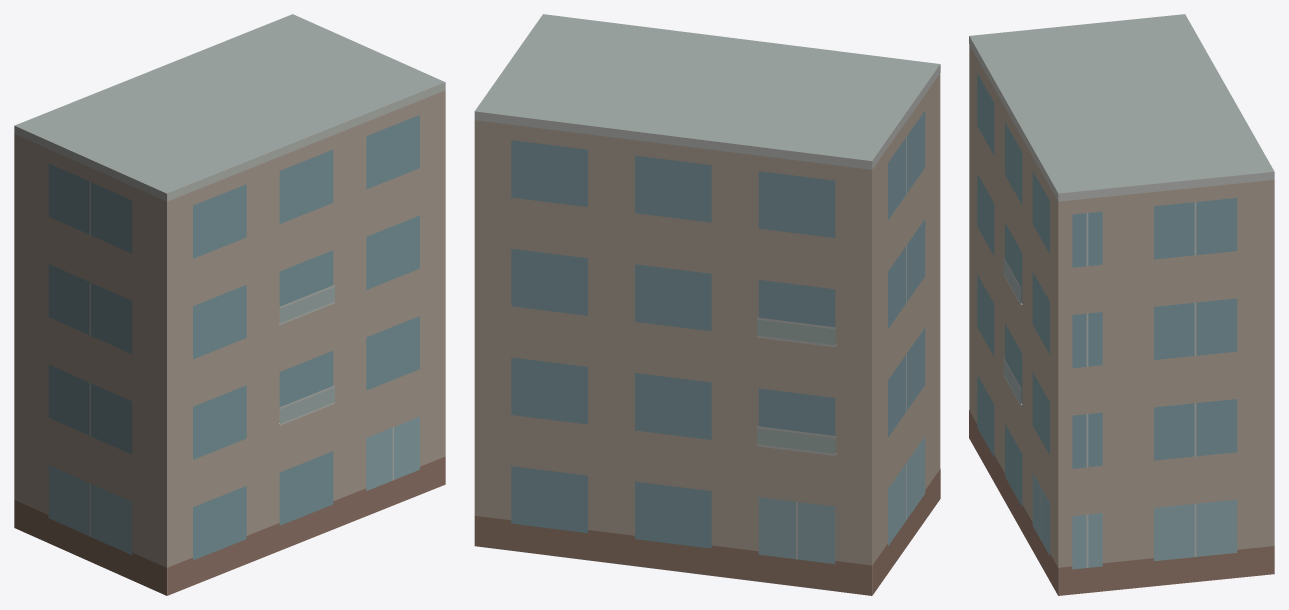
The model's file is residential-c3359495-9fe0-4a92-b639-81b0d5ee1164.glb.
The picture shows the model from 3 angles, left to right: view 1: azimuth 30°, elevation 25°; view 2: azimuth 150°, elevation 25°; view 3: azimuth 270°, elevation 25°; orthographic projection. The views are drawn at different scales.
Parts seen in each view (by area): view 1: residential-c3359495-9fe0-4a92-b639-81b0d5ee1164.tmp; view 2: residential-c3359495-9fe0-4a92-b639-81b0d5ee1164.tmp; view 3: residential-c3359495-9fe0-4a92-b639-81b0d5ee1164.tmp.
Part boxes in pixels (x1=…): residential-c3359495-9fe0-4a92-b639-81b0d5ee1164.tmp: x1=14, y1=14, x2=445, y2=595; residential-c3359495-9fe0-4a92-b639-81b0d5ee1164.tmp: x1=474, y1=14, x2=940, y2=595; residential-c3359495-9fe0-4a92-b639-81b0d5ee1164.tmp: x1=969, y1=14, x2=1274, y2=595.
Bounding box in the file's own units: 11.69 × 12.2 × 8.41.
